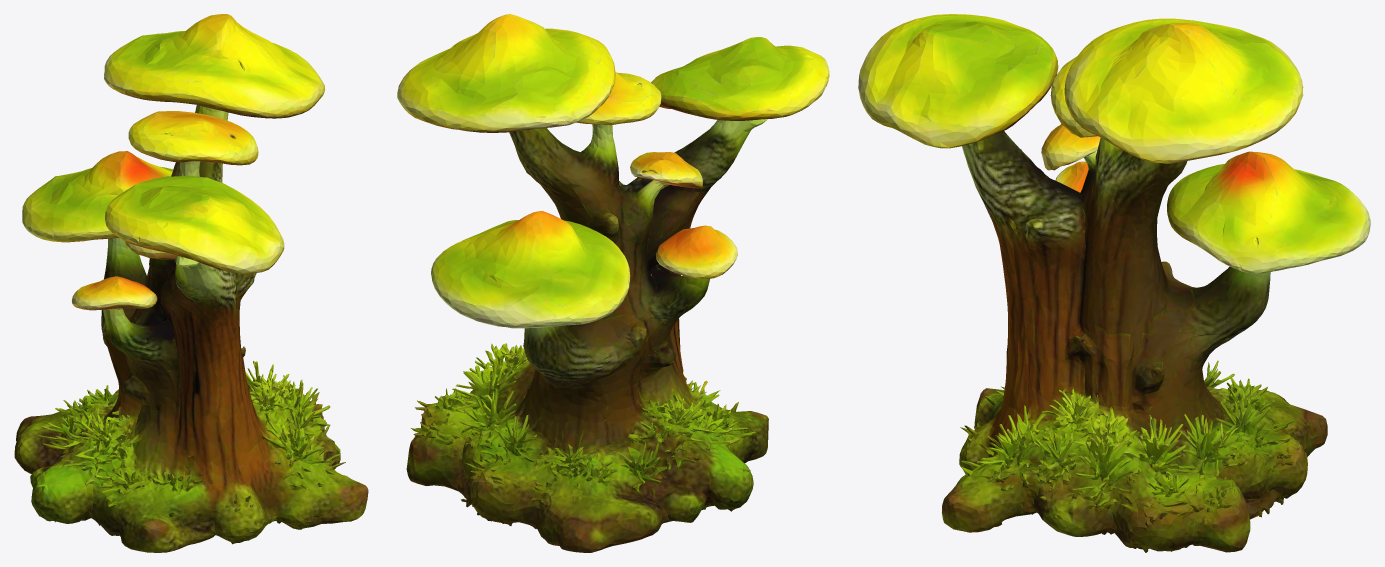
The model's file is swamp_fungus_shelf_01.glb.
3 views of the same model, side by side, from view 1: azimuth 30°, elevation 25°; view 2: azimuth 150°, elevation 25°; view 3: azimuth 270°, elevation 25° (orthographic). The views are drawn at different scales.
Parts seen in each view (by area): view 1: geometry_0; view 2: geometry_0; view 3: geometry_0.
Part boxes in pixels (x1,y1,x2,y2): geometry_0: [14, 14, 368, 552]; geometry_0: [397, 14, 829, 552]; geometry_0: [858, 14, 1370, 552].
Size of the model in its own units: 0.7132 by 1 by 0.9366.
1 material, 1 textured.
